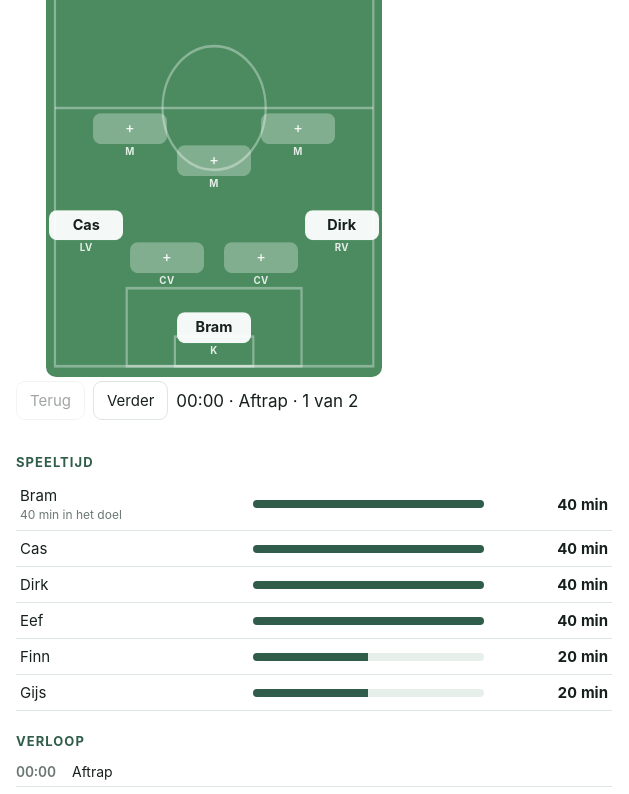
Test: de opstelling van een bewaarde wedstrijd › laat je door de wissels tikken
(page scrolled)
Click the button "Verder" at point(131, 400), box [93,381,168,420]
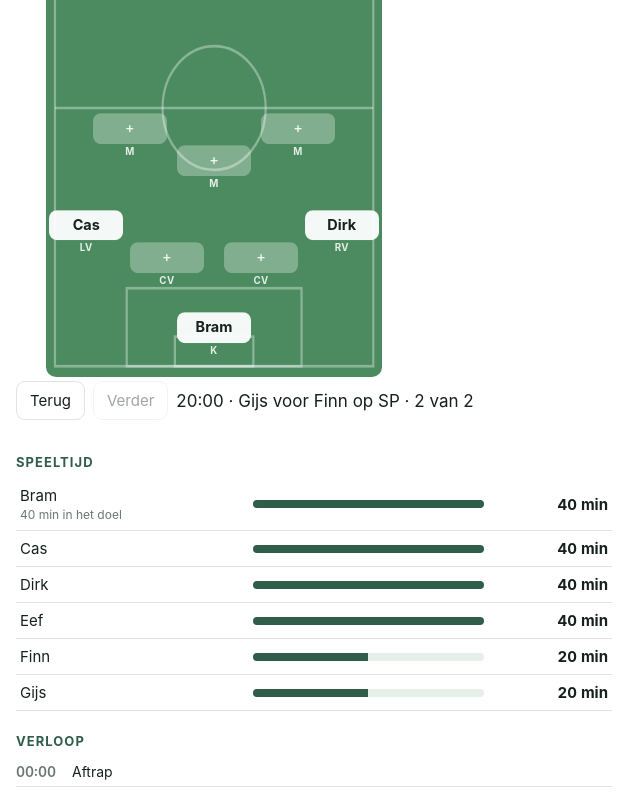
Now the text "2 van 2" is shown, box [176,390,474,410]
